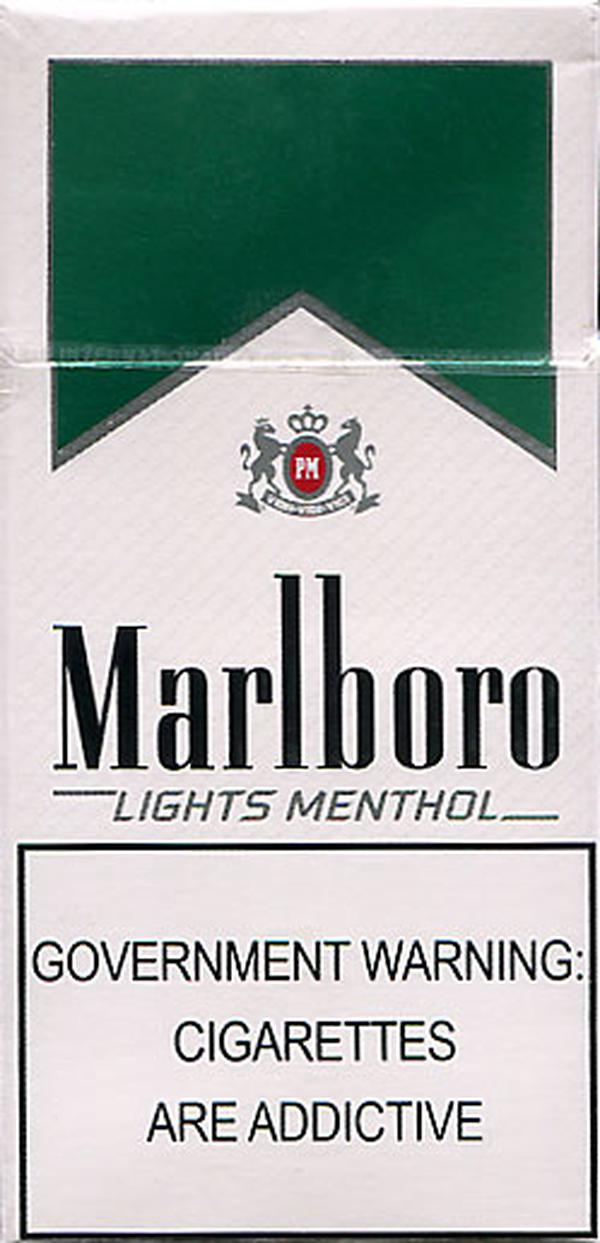marlboro_mentol: (1, 13, 600, 1235)
